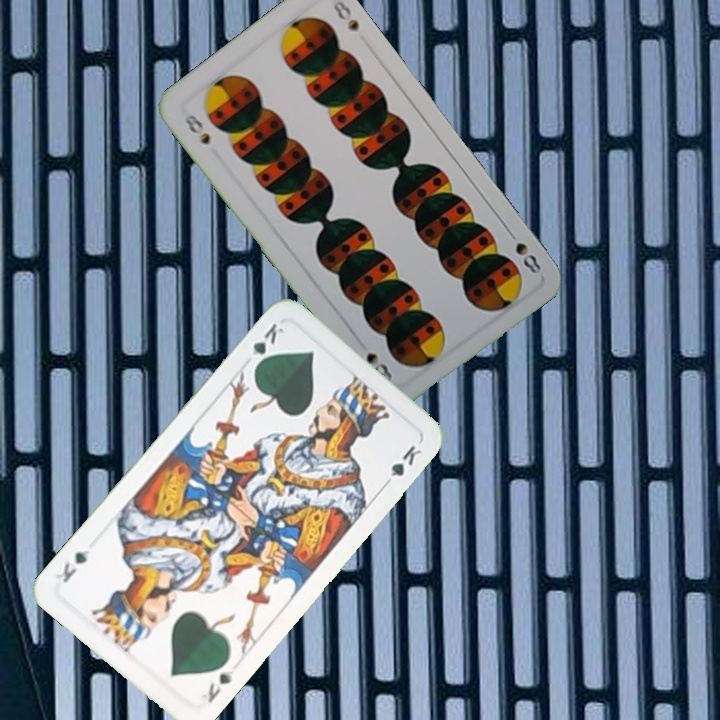GK: (245, 318, 286, 372), (203, 664, 237, 706)
S8: (502, 225, 544, 277), (180, 109, 213, 148)
